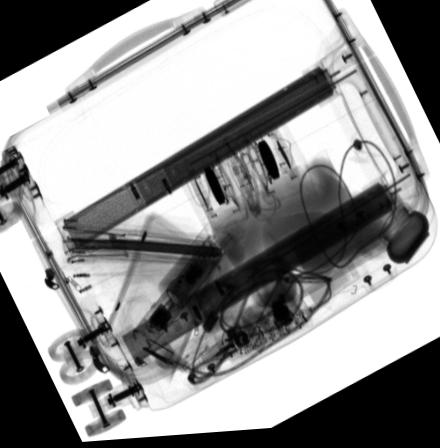Baton: (136, 236, 224, 351)
